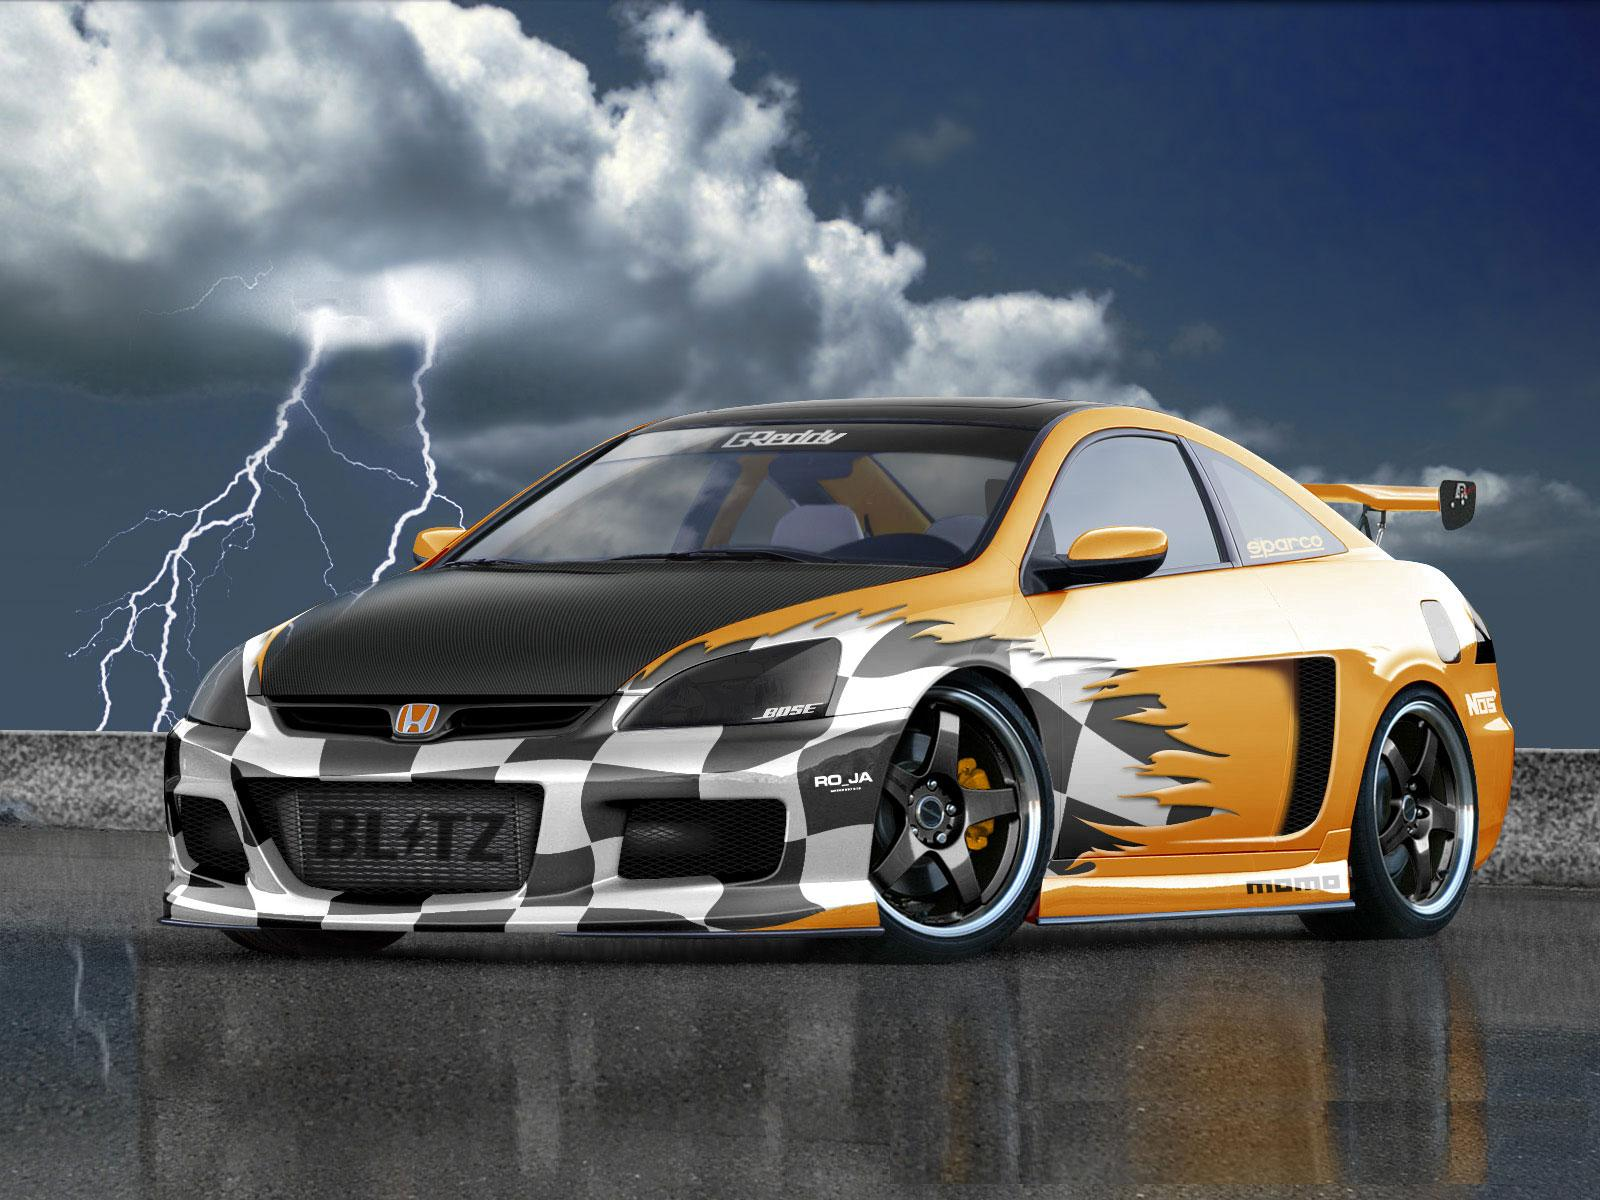Car: (130, 310, 1600, 1054)
